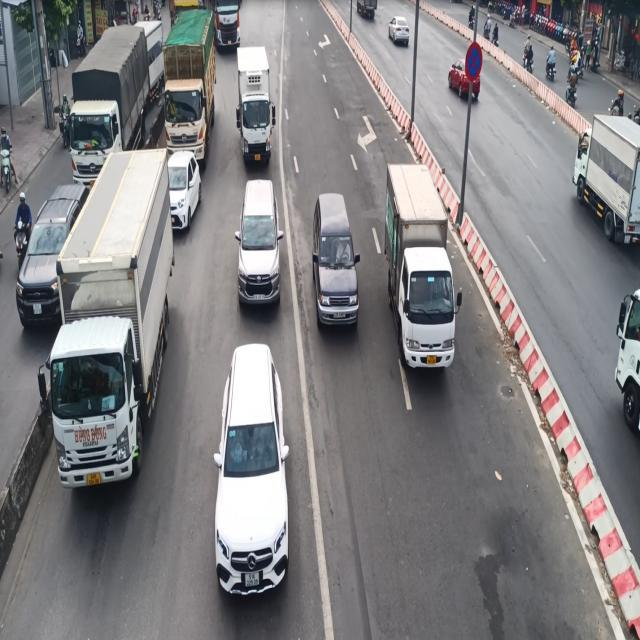car: (212, 342, 290, 597), (311, 192, 360, 327), (234, 178, 284, 306), (387, 15, 409, 46)
truck: (36, 147, 174, 489), (377, 156, 469, 385), (571, 113, 639, 247)
